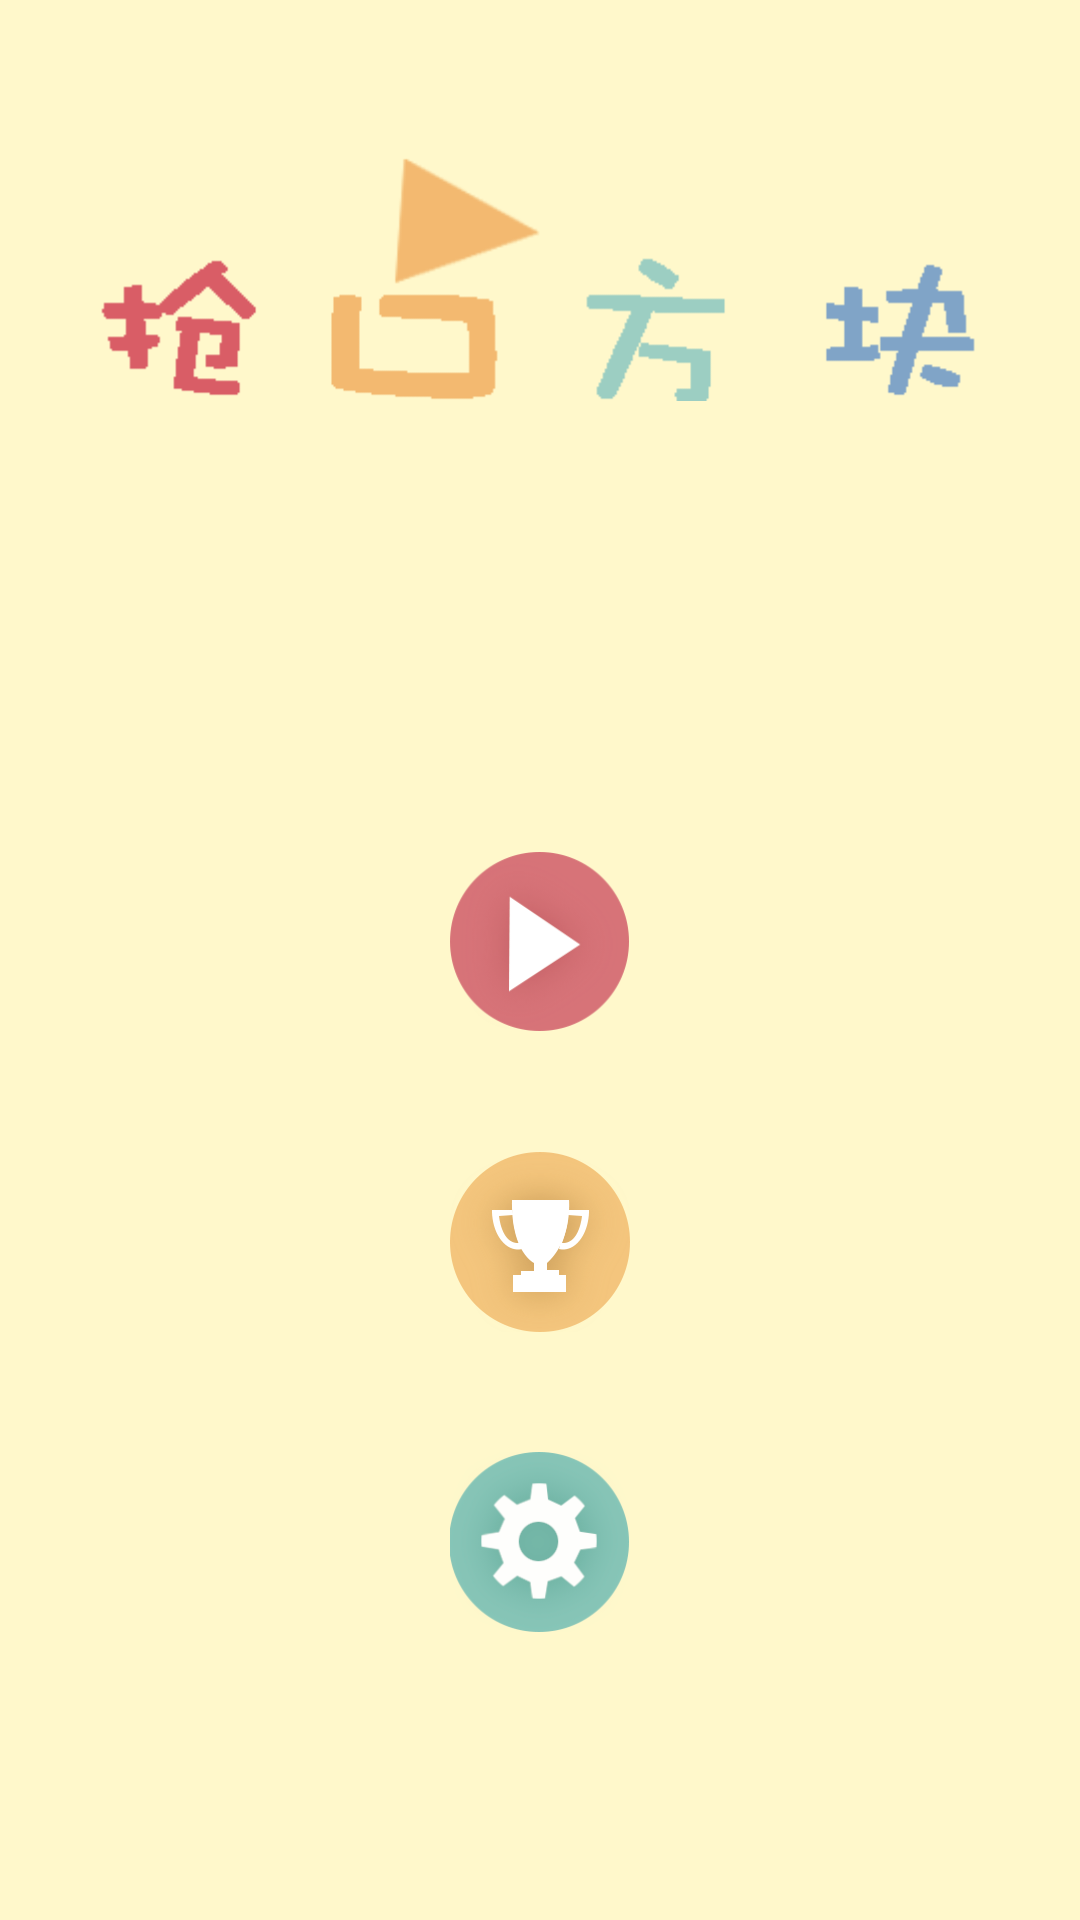

Screen size 1080x1920. Icon name, then its box in pixels as box(x1, y1, x2, y2):
gold: box(450, 1152, 630, 1332)
play: box(450, 852, 629, 1031)
setting: box(450, 1452, 629, 1632)
